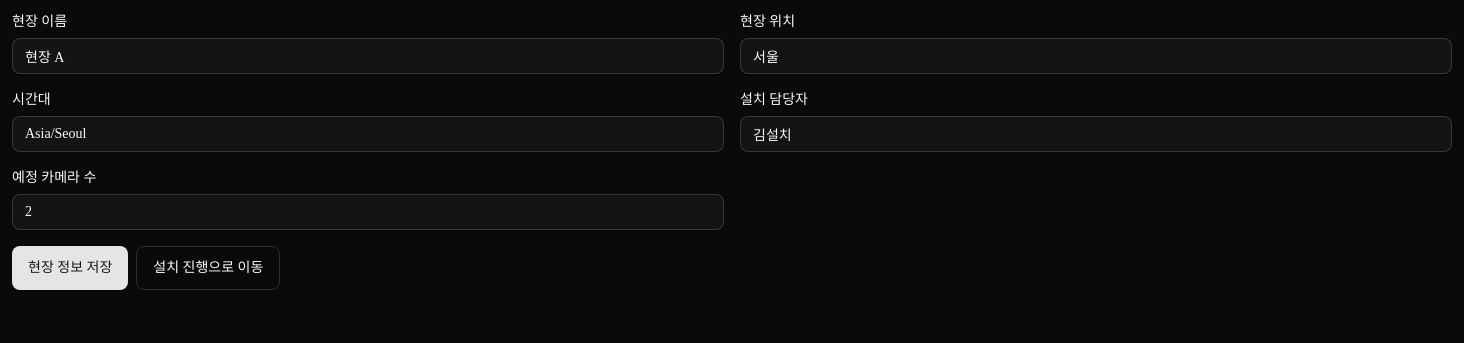
Scenario: SiteSetupForm › saves plain site fields with the expected revision
Replace the text in the field labelled "현장 이름" with "현장 B". click: (368, 56)
box: 12,38 -> 724,74
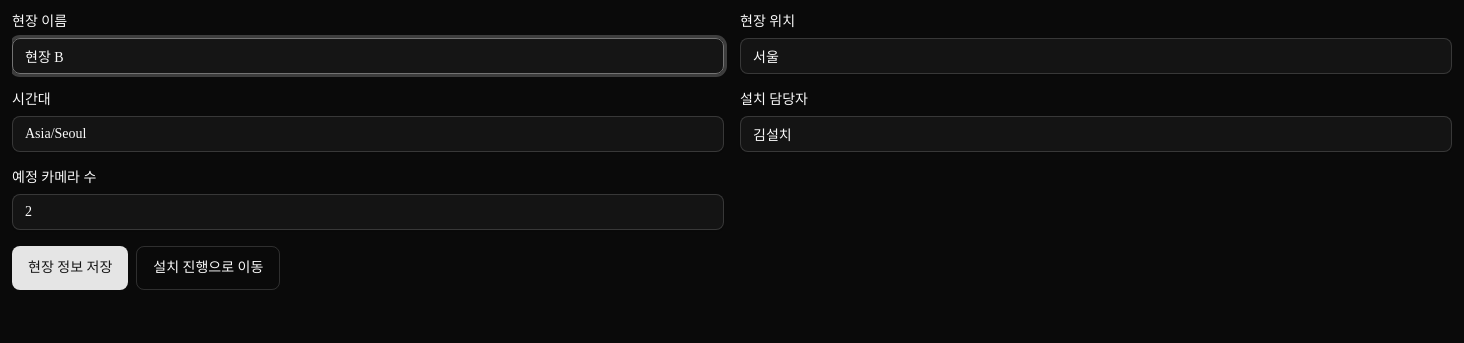
Click the button "현장 정보 저장". click: (70, 268)
box: 12,246 -> 128,290
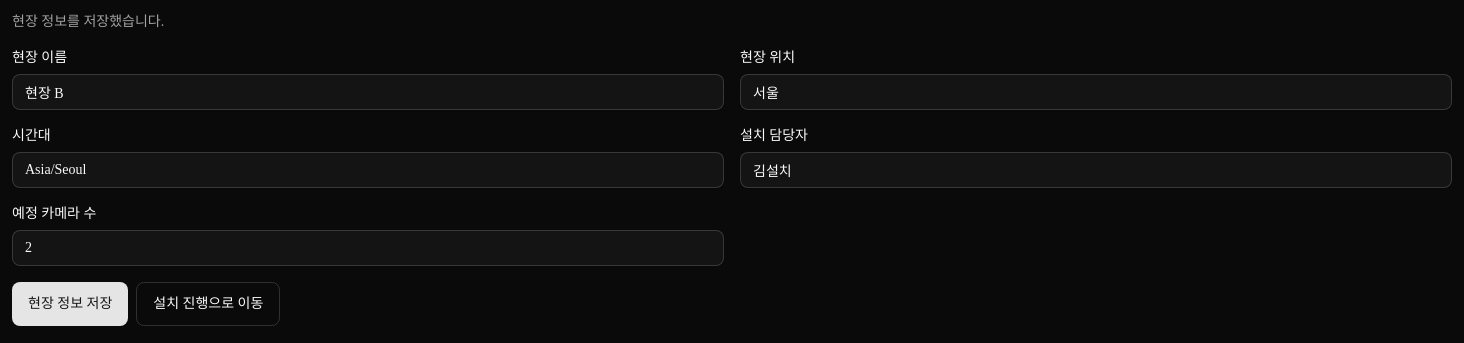
Expected: the message shows "현장 정보를 저장했습니다", 12,14 -> 164,29
